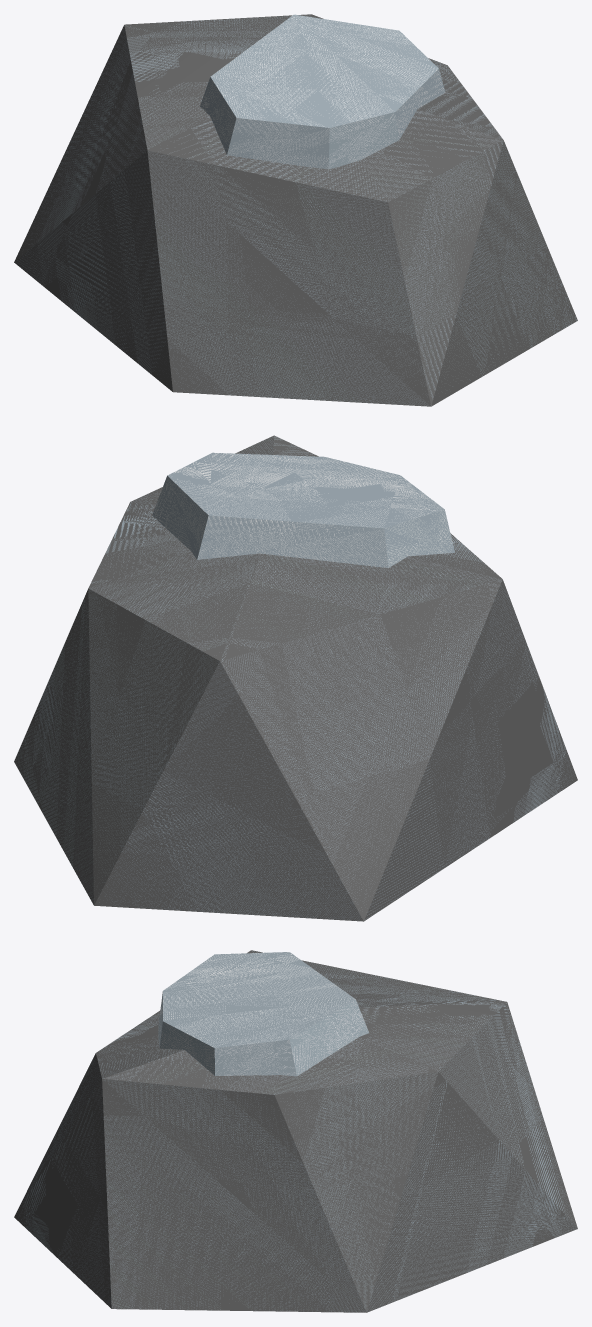
File: Rock_Small_Snow_02.fbx
3 renders of one model, top to bottom at view 1: azimuth 30°, elevation 25°; view 2: azimuth 150°, elevation 25°; view 3: azimuth 270°, elevation 25°, orthographic. The views are drawn at different scales.
Visible parts, largest first — view 1: Model; view 2: Model; view 3: Model.
Part boxes in pixels (x1,y1,x2,y2): Model: (14,14,577,406); Model: (14,435,577,921); Model: (14,950,577,1312).
Bounding box in the file's own units: 82.66 × 63.11 × 110.
